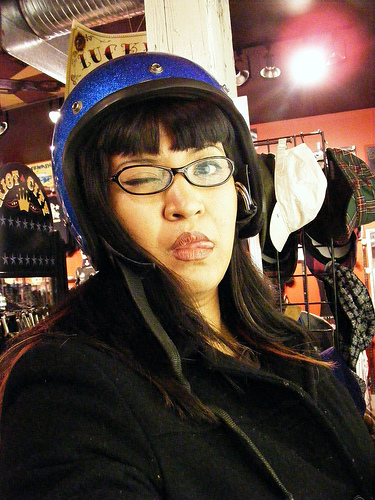helmet: (29, 63, 257, 165)
